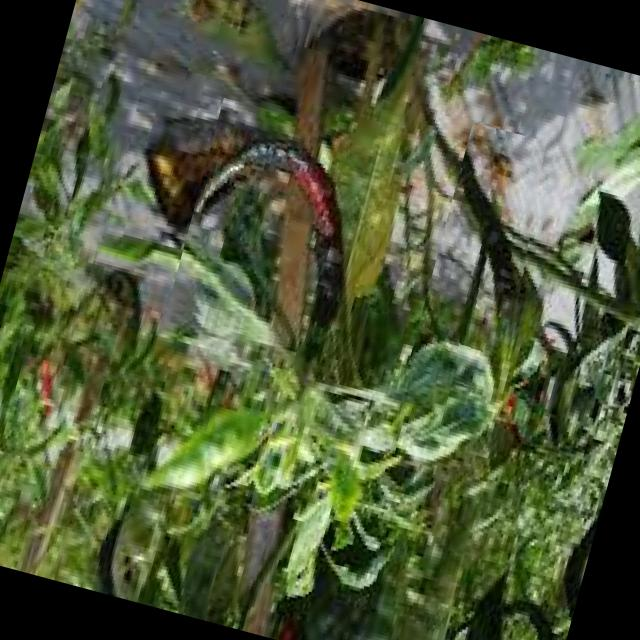Organic: (165, 96, 386, 358), (404, 120, 568, 398)
